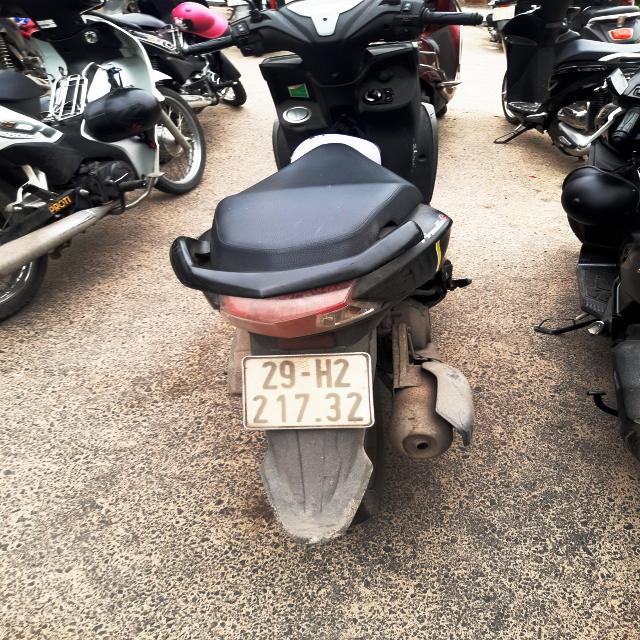license_plate: (240, 350, 379, 433)
